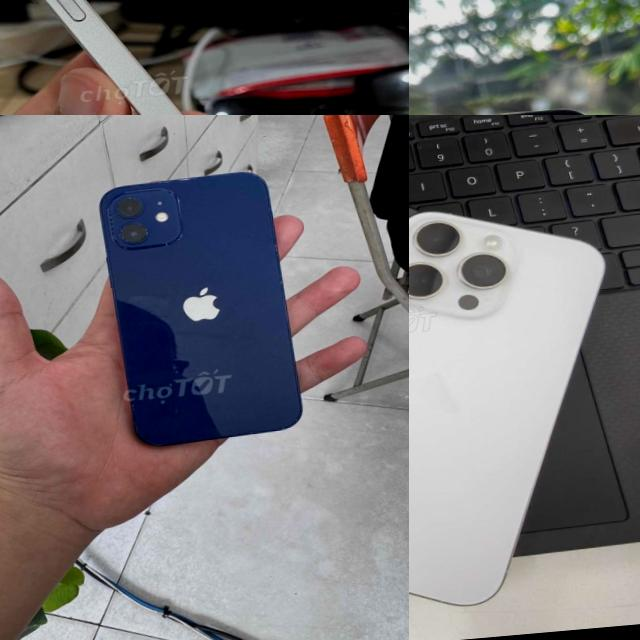gen_12_13: (92, 165, 308, 452)
gen_14: (0, 0, 345, 115)
gen_16: (409, 193, 629, 623)
